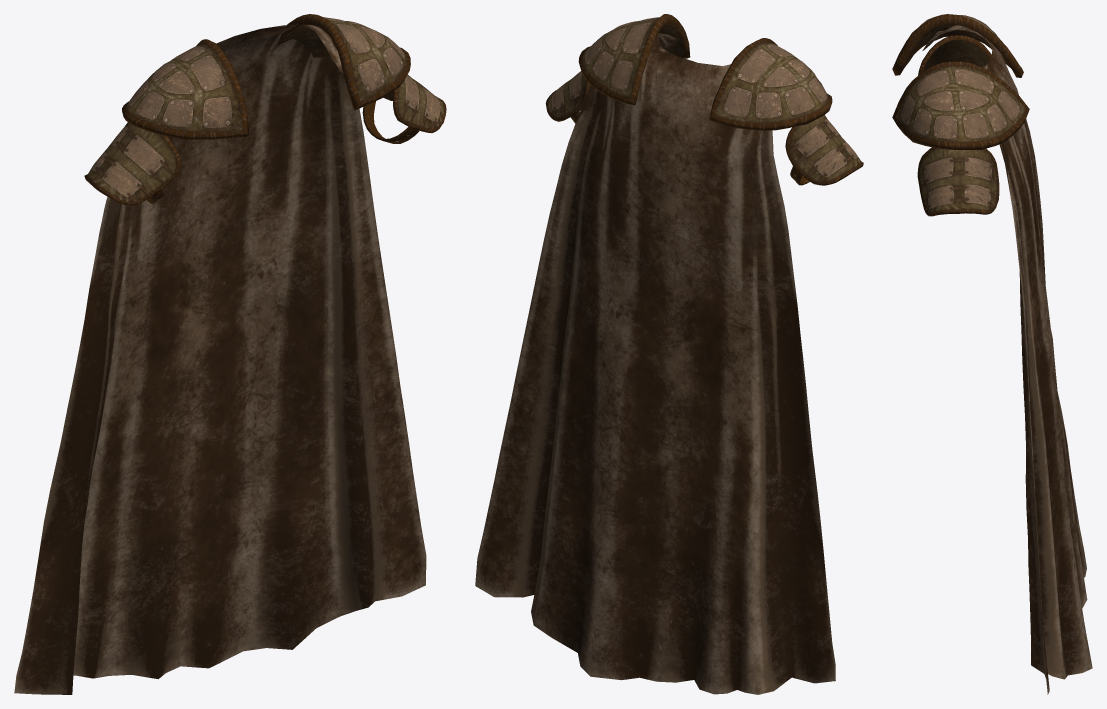
The model's file is dunland_caerdh_pauldron_heavy_cape_a.fbx.
The picture shows the model from 3 angles, left to right: view 1: azimuth 30°, elevation 25°; view 2: azimuth 150°, elevation 25°; view 3: azimuth 270°, elevation 25°; orthographic projection. The views are drawn at different scales.
Visible parts, largest first — view 1: dunland_caerdh_pauldron_heavy_cape_a.cape, dunland_caerdh_pauldron_heavy_cape_a; view 2: dunland_caerdh_pauldron_heavy_cape_a.cape, dunland_caerdh_pauldron_heavy_cape_a; view 3: dunland_caerdh_pauldron_heavy_cape_a.cape, dunland_caerdh_pauldron_heavy_cape_a.
Part boxes in pixels (<box>): dunland_caerdh_pauldron_heavy_cape_a.cape: <box>14,24,426,694</box>; dunland_caerdh_pauldron_heavy_cape_a: <box>84,14,446,205</box>; dunland_caerdh_pauldron_heavy_cape_a.cape: <box>475,33,835,694</box>; dunland_caerdh_pauldron_heavy_cape_a: <box>545,14,863,185</box>; dunland_caerdh_pauldron_heavy_cape_a.cape: <box>922,25,1092,694</box>; dunland_caerdh_pauldron_heavy_cape_a: <box>892,14,1029,216</box>.
Size of the model in its own units: 0.9531 by 0.4586 by 1.54.
2 materials, 2 textured.
